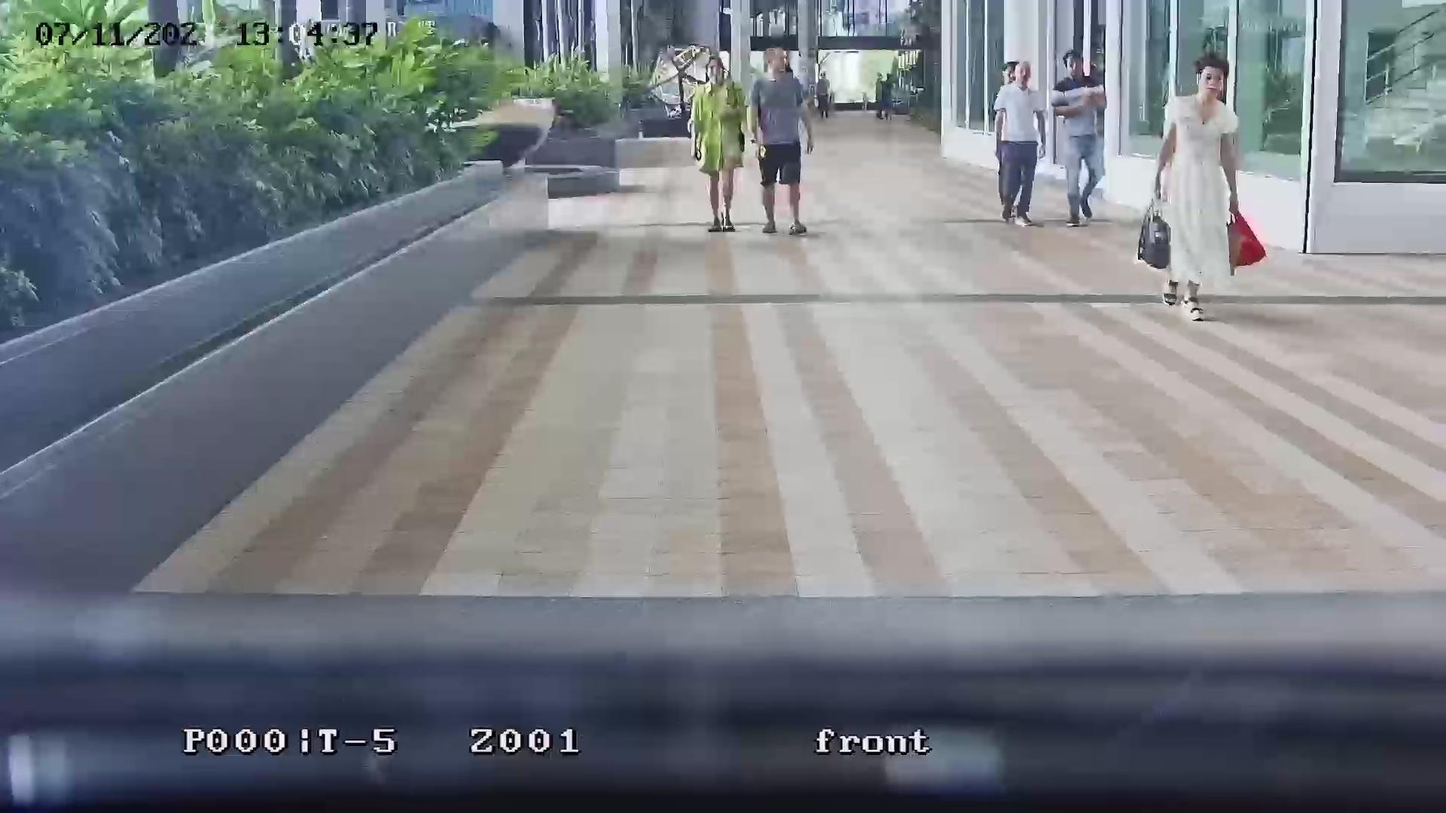person: (1153, 50, 1243, 321), (750, 46, 814, 236), (688, 53, 752, 233), (1051, 49, 1106, 228), (993, 61, 1047, 228), (876, 69, 894, 122), (814, 75, 833, 120)
